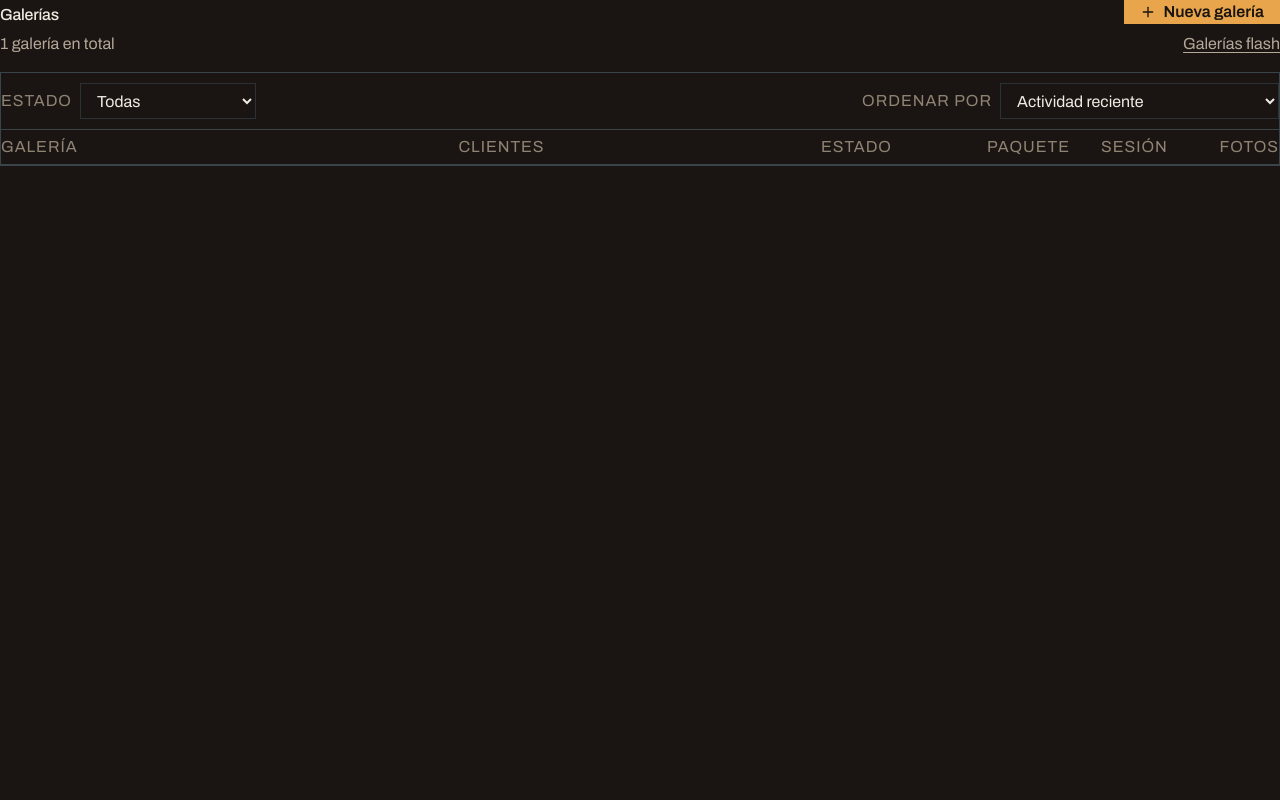
Test: GalleriesPage chrome › renders the gallery form inside a dialog opened from the page head
Expected: the button "Crear galería" is not shown
Click the button "Nueva galería" at (1202, 12), box [1124, 0, 1279, 24]
(page scrolled)
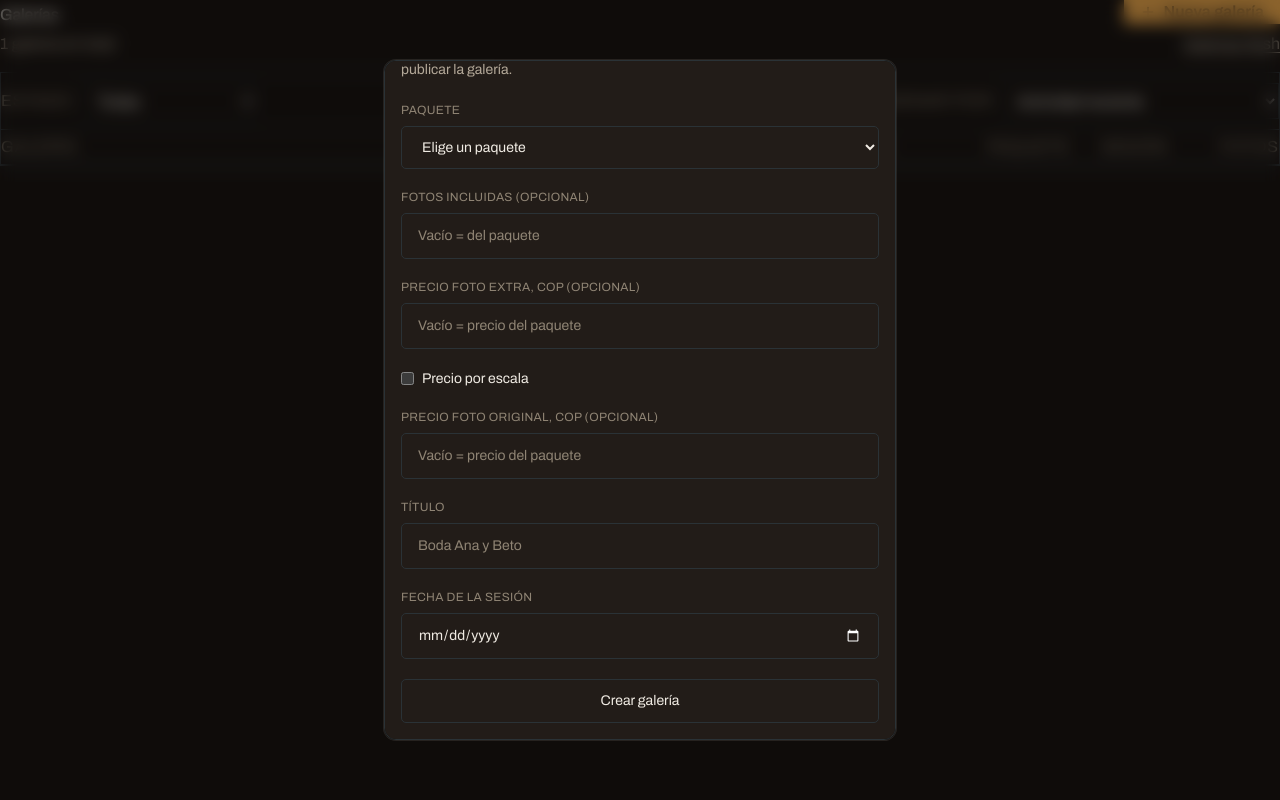
Now the button "Crear galería" is shown, box [401, 678, 879, 722]
Now the field labelled "Título" is shown, box [401, 522, 879, 568]
Now the date field labelled "Fecha de la sesión" is shown, box [401, 612, 879, 658]
